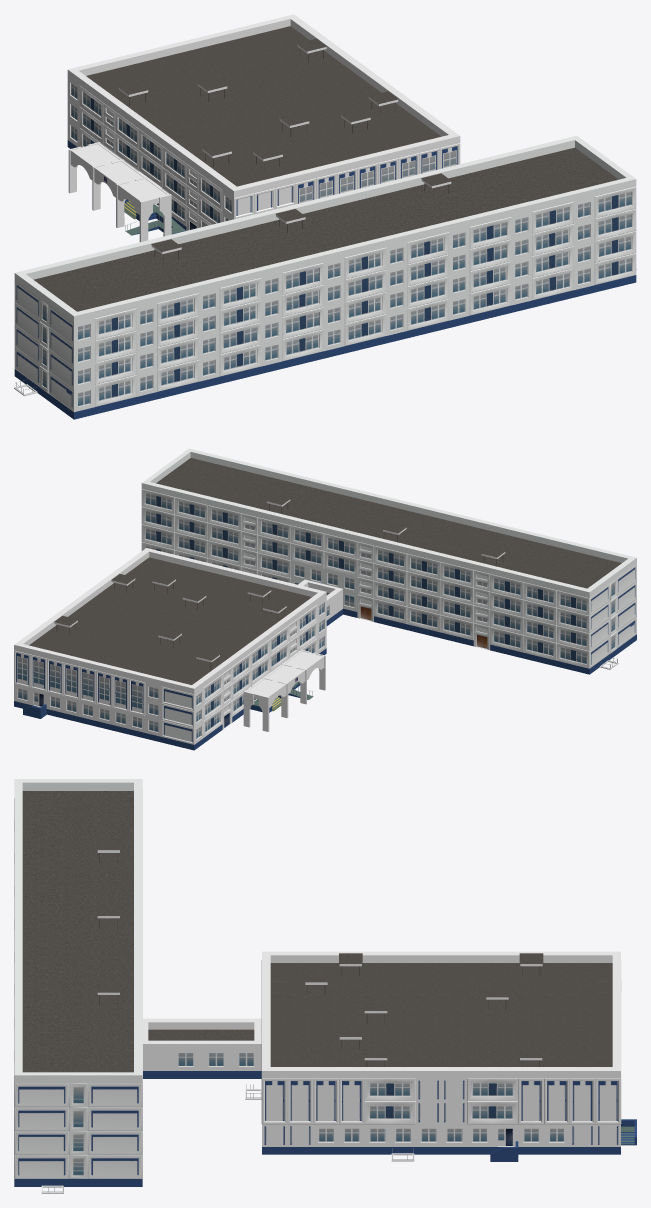
The model's file is hospital.glb.
3 views of the same model, one above another, from view 1: azimuth 30°, elevation 25°; view 2: azimuth 150°, elevation 25°; view 3: azimuth 270°, elevation 25° (orthographic). The views are drawn at different scales.
Parts seen in each view (by area): view 1: Object_4, Object_7, Object_10, Object_9, Object_8, Object_3; view 2: Object_4, Object_7, Object_10, Object_9, Object_5, Object_8, Object_3; view 3: Object_7, Object_4, Object_5, Object_9, Object_3, Object_8.
Part boxes in pixels (x1=…): Object_4: x1=14, y1=135, x2=636, y2=419; Object_7: x1=67, y1=14, x2=460, y2=230; Object_10: x1=68, y1=142, x2=171, y2=241; Object_9: x1=118, y1=38, x2=451, y2=262; Object_8: x1=118, y1=44, x2=451, y2=254; Object_3: x1=124, y1=199, x2=186, y2=235; Object_4: x1=141, y1=448, x2=636, y2=674; Object_7: x1=14, y1=548, x2=326, y2=750; Object_10: x1=243, y1=649, x2=325, y2=731; Object_9: x1=54, y1=495, x2=505, y2=668; Object_5: x1=298, y1=579, x2=342, y2=625; Object_8: x1=54, y1=499, x2=505, y2=662; Object_3: x1=23, y1=681, x2=313, y2=718; Object_7: x1=261, y1=951, x2=621, y2=1154; Object_4: x1=14, y1=779, x2=142, y2=1186; Object_5: x1=143, y1=1018, x2=261, y2=1078; Object_9: x1=97, y1=839, x2=543, y2=1066; Object_3: x1=490, y1=1119, x2=636, y2=1161; Object_8: x1=97, y1=850, x2=542, y2=1060.
Bounding box in the file's own units: 2.6 × 0.4606 × 2.21.
9 materials, 6 textured.
